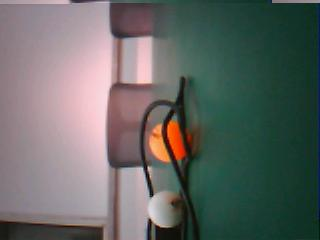oball: (148, 121, 190, 162)
